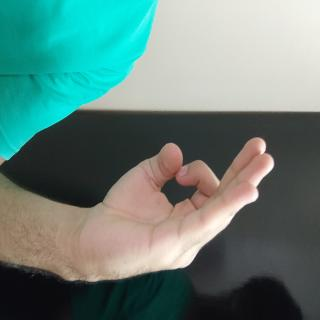Space: (98, 55, 223, 320)
